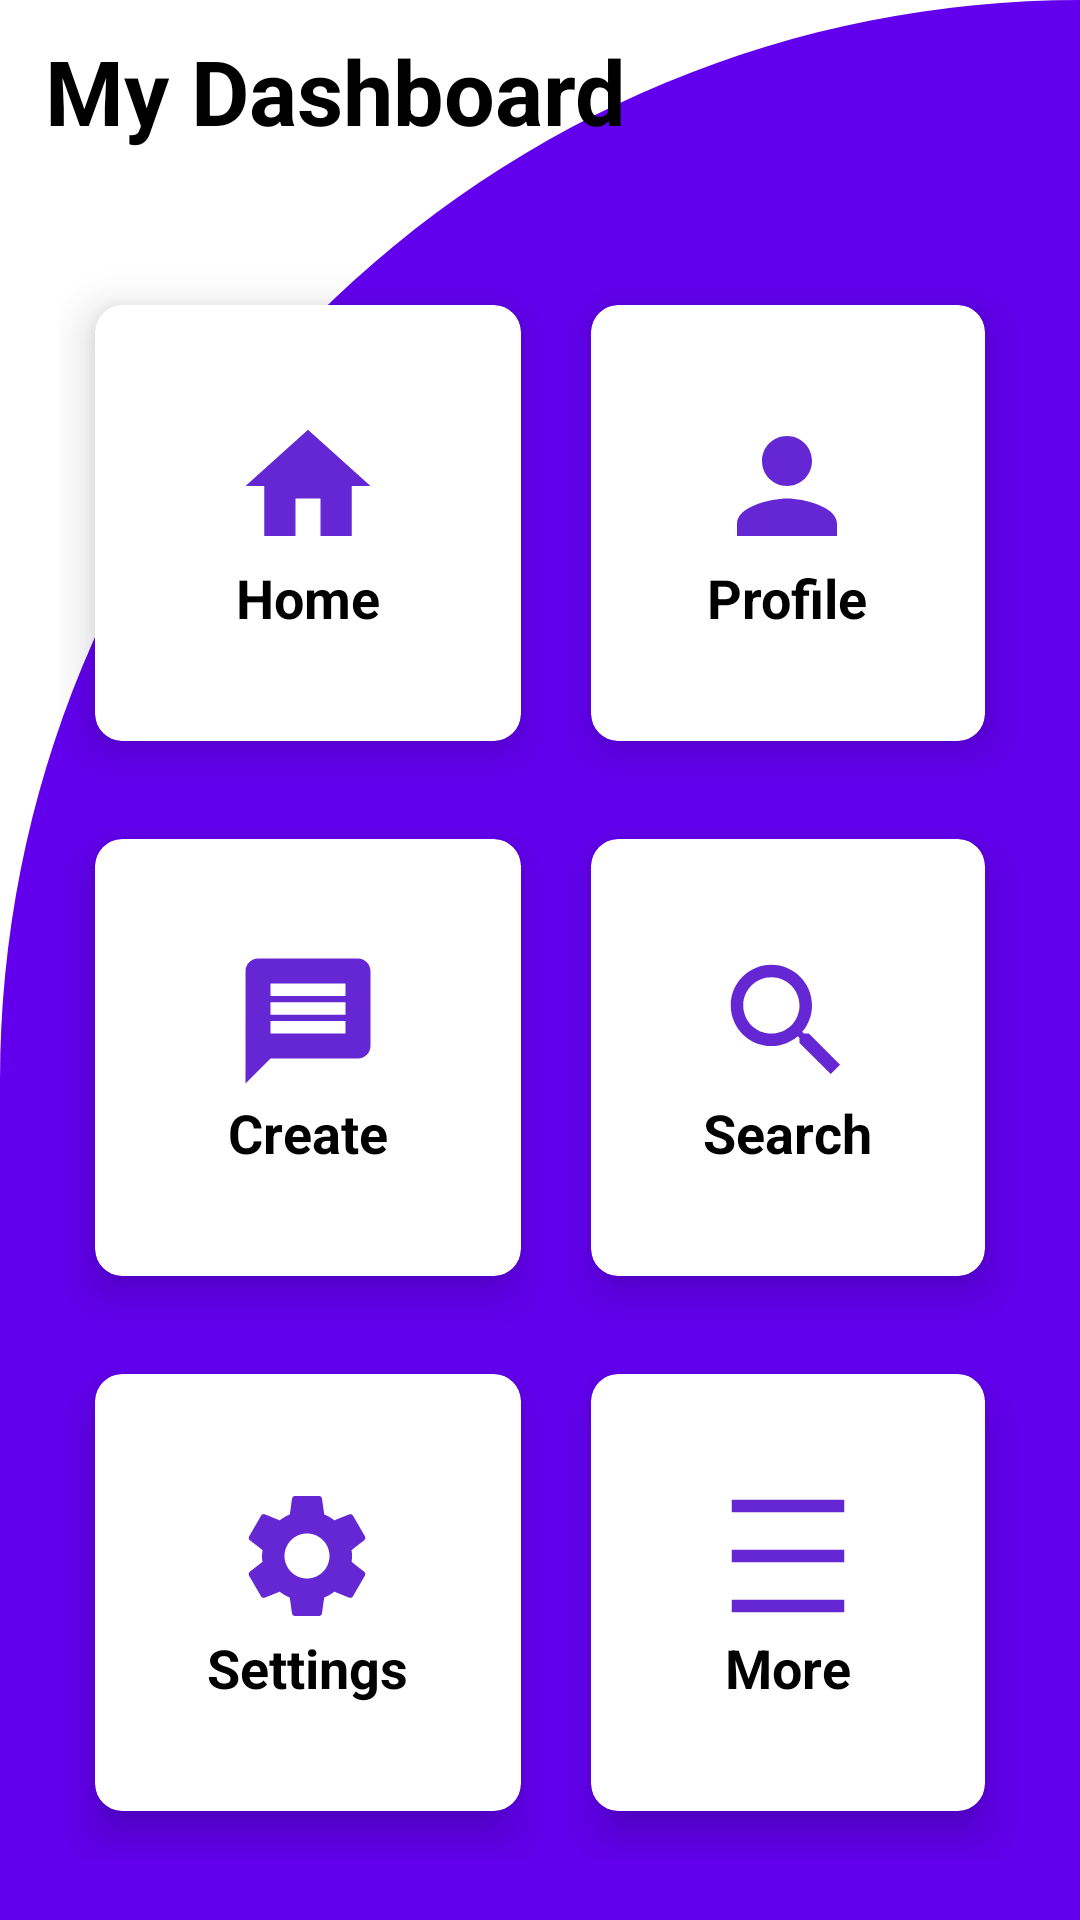

Point at icon controls on the screen. Image size 1080 x 1920, points as point (x, y).
message: point (308, 1021)
